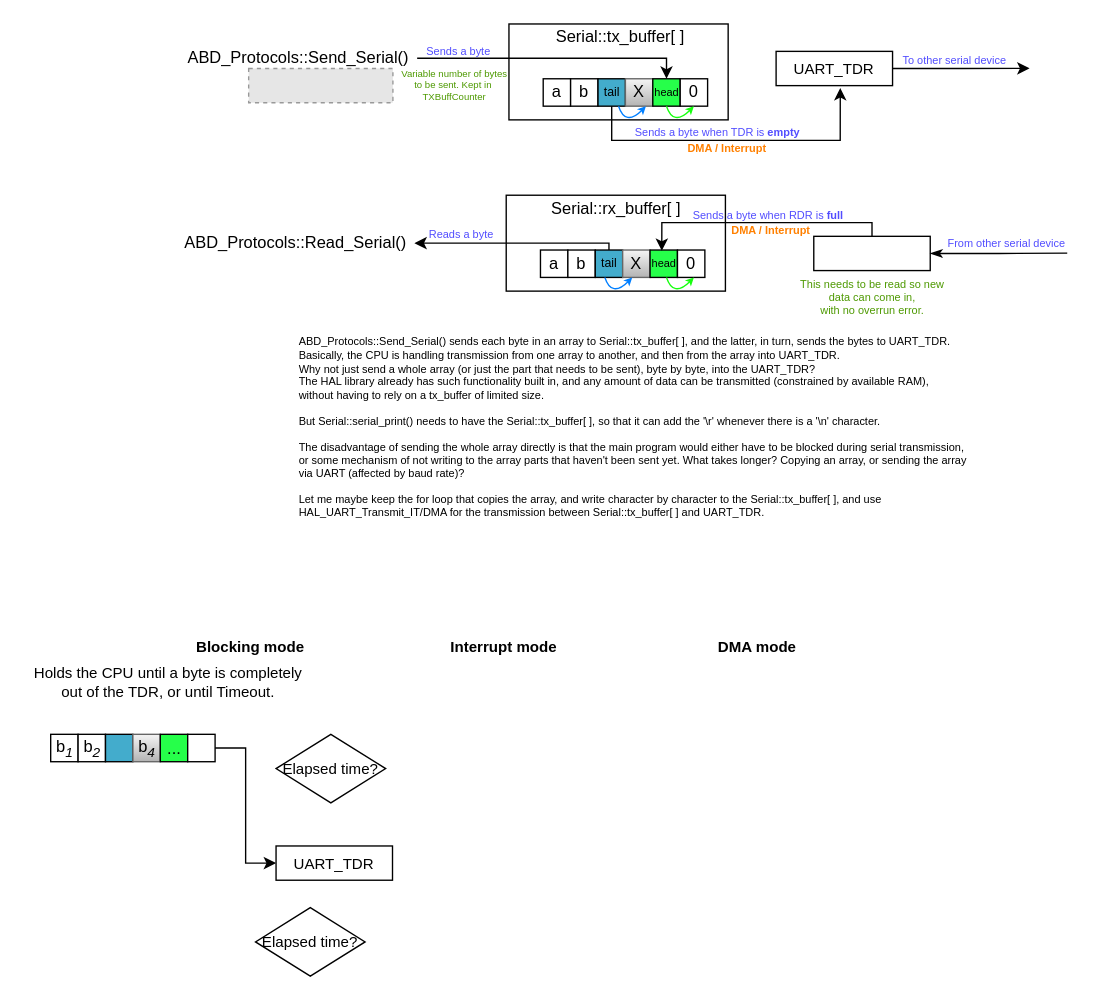
This 1101x1000 diagram has some shape labels left out. Grey dashed boxes stand in for pictures. Here are the shapes that lost their labels. From the top down, the centre of each, then its label:
At [871,253]: "UART_RDR".
At [118,747]: "b 3".
At [200,747]: "b n".
